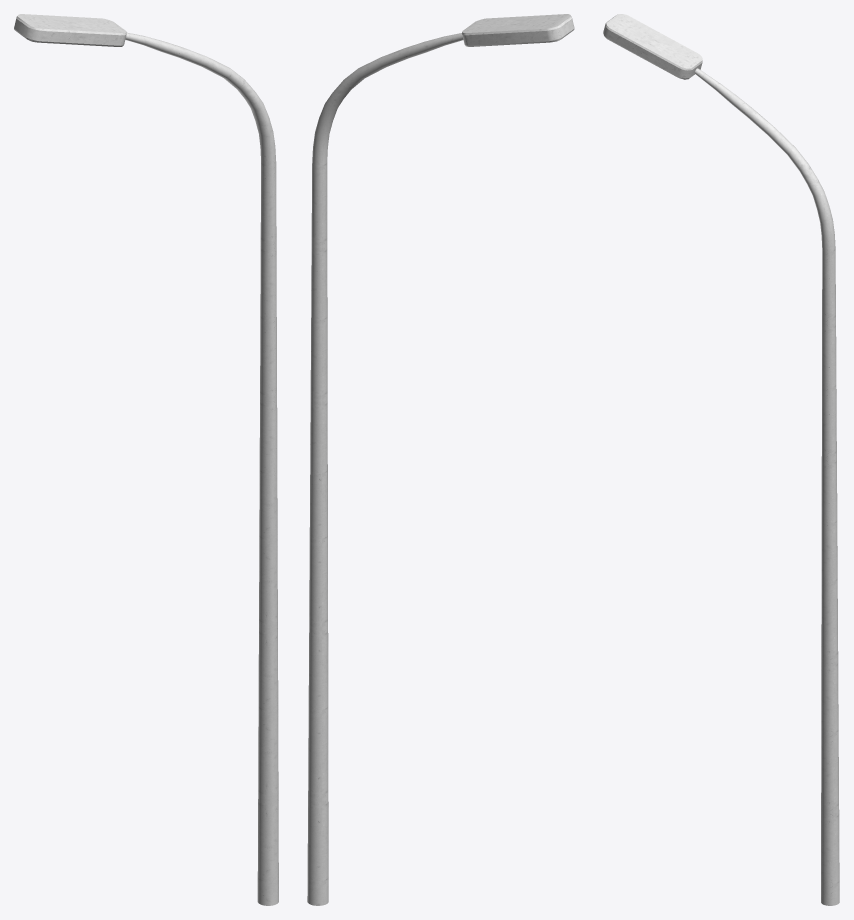
File: sm_ludeng.fbx
3 views of the same model, side by side, from view 1: azimuth 30°, elevation 25°; view 2: azimuth 150°, elevation 25°; view 3: azimuth 330°, elevation 25° (orthographic). The views are drawn at different scales.
Visible parts, largest first — view 1: sm_ludeng; view 2: sm_ludeng; view 3: sm_ludeng.
Part boxes in pixels (x1,y1,x2,y2): sm_ludeng: [14, 14, 278, 905]; sm_ludeng: [307, 14, 574, 905]; sm_ludeng: [603, 14, 839, 905].
Bounding box in the file's own units: 3.7 × 12.86 × 0.5297.
